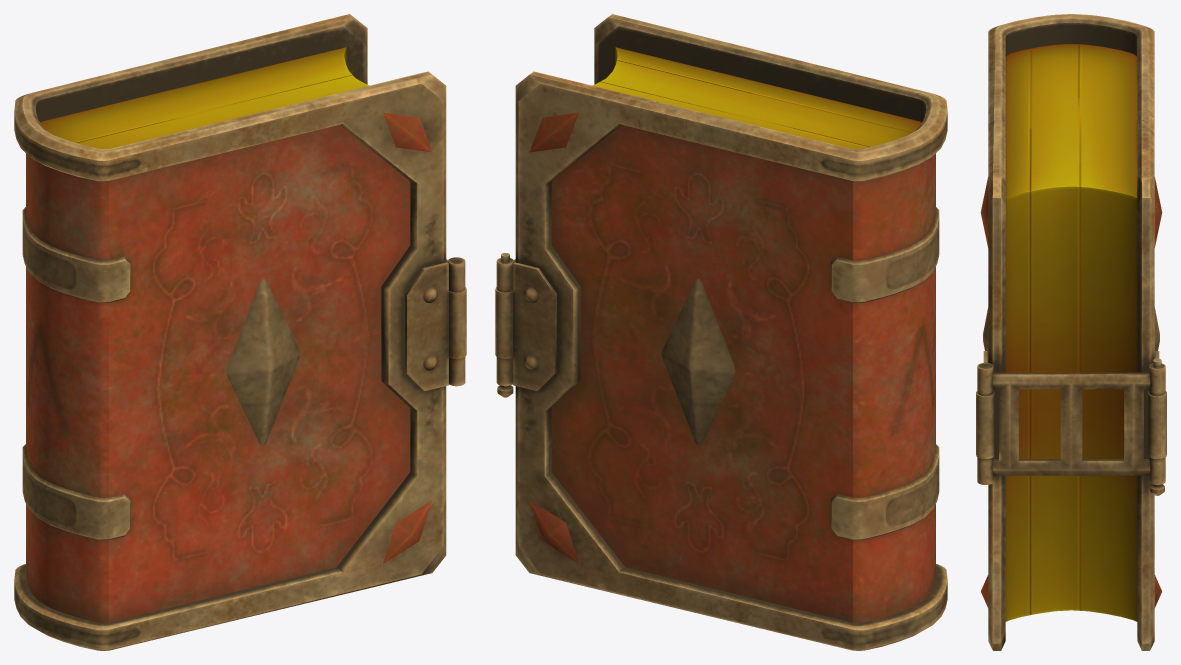
The picture shows the model from 3 angles, left to right: view 1: azimuth 30°, elevation 25°; view 2: azimuth 150°, elevation 25°; view 3: azimuth 270°, elevation 25°; orthographic projection. The views are drawn at different scales.
Visible parts, largest first — view 1: book; view 2: book; view 3: book.
Part boxes in pixels (x1,y1,x2,y2): book: [14, 14, 466, 650]; book: [495, 14, 947, 650]; book: [976, 14, 1166, 650].
Bounding box in the file's own units: 0.3826 × 0.4667 × 0.1706.
Materials: 1 (1 with a texture image).
